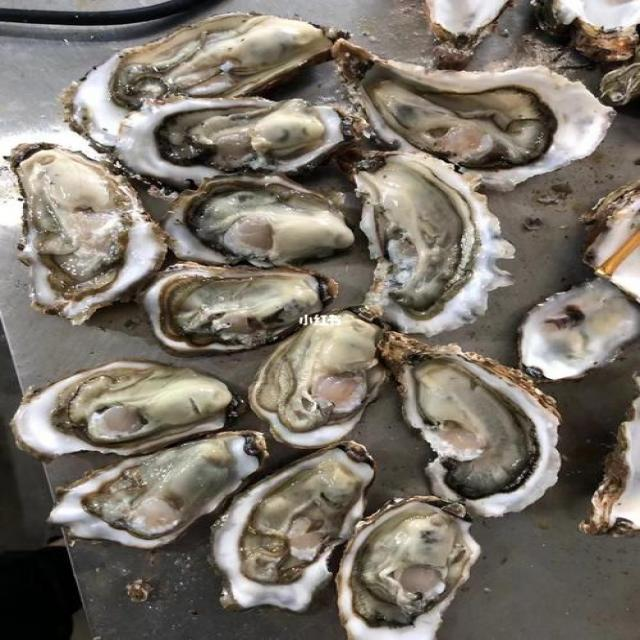Oyster- Indeterminate: (565, 342, 640, 542)
Oyster-Open: (329, 25, 631, 196), (46, 5, 360, 151), (369, 324, 579, 529), (336, 141, 528, 342), (197, 433, 385, 621), (41, 418, 275, 555), (4, 142, 170, 335), (5, 354, 252, 473), (324, 485, 505, 639), (105, 91, 377, 192), (234, 305, 393, 455), (131, 255, 347, 359), (152, 168, 365, 268), (510, 275, 640, 394), (412, 0, 523, 68), (531, 0, 640, 68)
